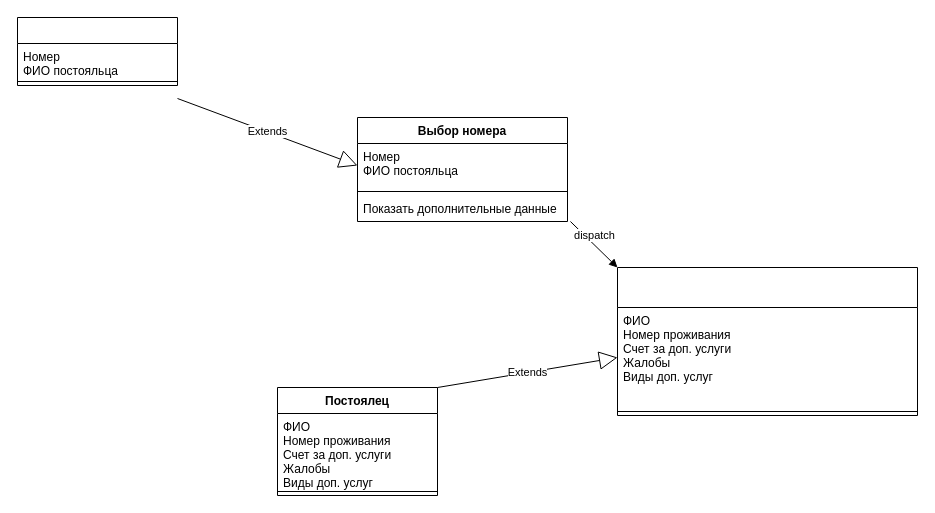
This 935x513 diagram has some shape labels left out. The box of each missing label's shape, as (x1, y1, x2, y2) in pixels:
Дополнительные данные, постояльца, который проживает в требуемом номере: (616, 266, 918, 416)
Список номеров: (16, 16, 178, 86)
